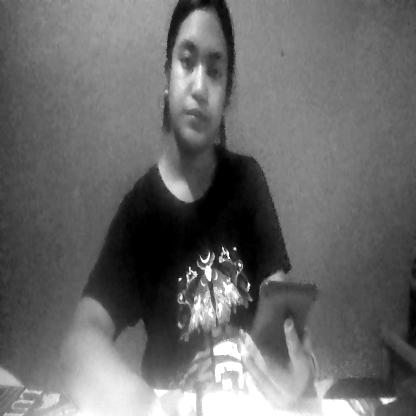Normal: (158, 3, 242, 164)
